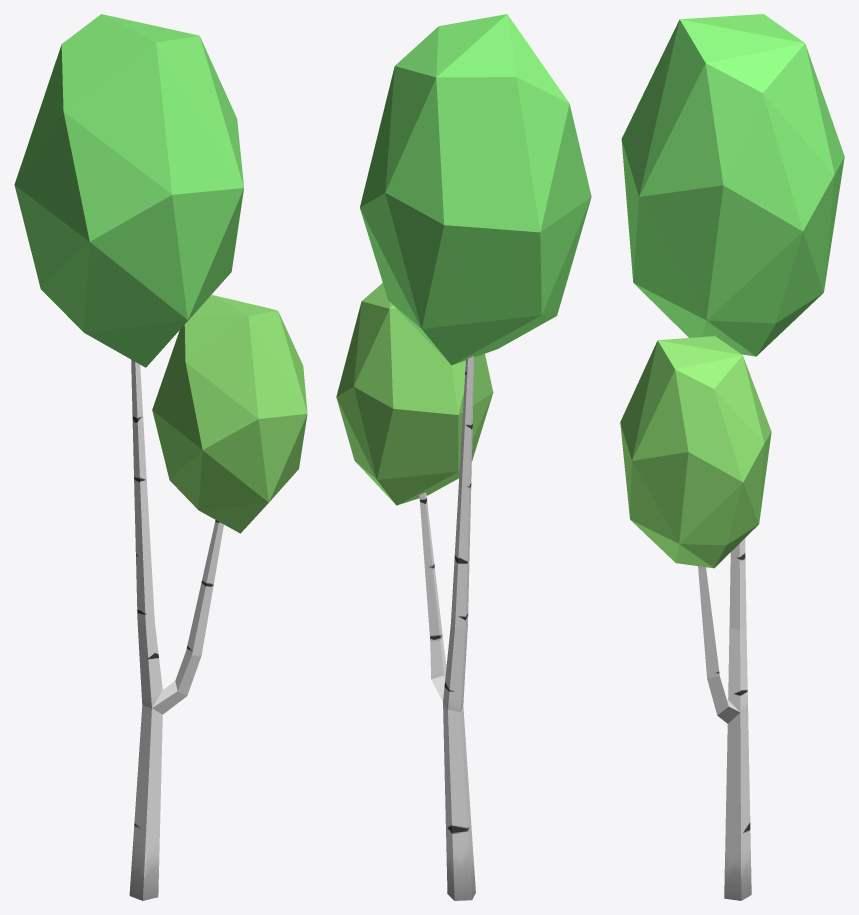
Rendered from birchTree1.fbx.
3 renders of one model, left to right at view 1: azimuth 30°, elevation 25°; view 2: azimuth 150°, elevation 25°; view 3: azimuth 270°, elevation 25°, orthographic.
Parts seen in each view (by area): view 1: Birch_Tree_m_01; view 2: Birch_Tree_m_01; view 3: Birch_Tree_m_01.
Boxes of the visible parts, bbox=[...] form: Birch_Tree_m_01: bbox=[14, 14, 307, 900]; Birch_Tree_m_01: bbox=[336, 14, 591, 900]; Birch_Tree_m_01: bbox=[620, 14, 844, 900].
Bounding box in the file's own units: 217 × 264 × 924.
Materials: 1 (1 with a texture image).
